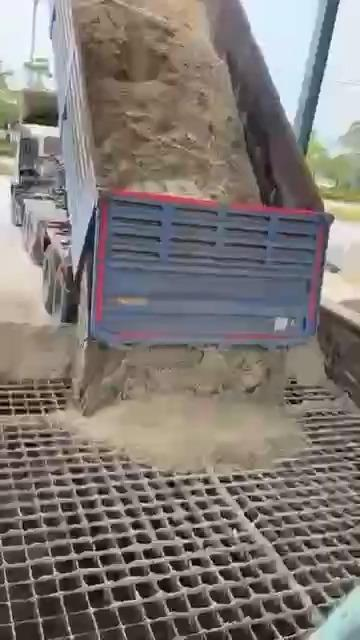sand: (74, 0, 260, 203), (63, 340, 325, 469), (1, 324, 74, 376)
